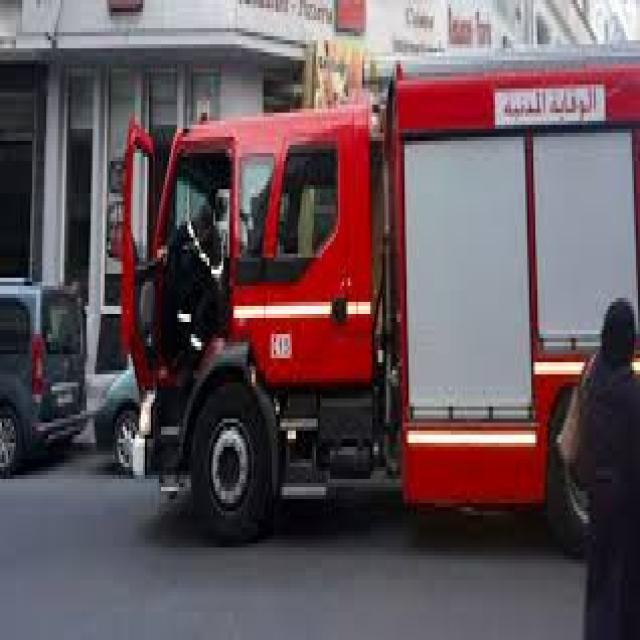Protection Civile: (113, 53, 639, 564)
